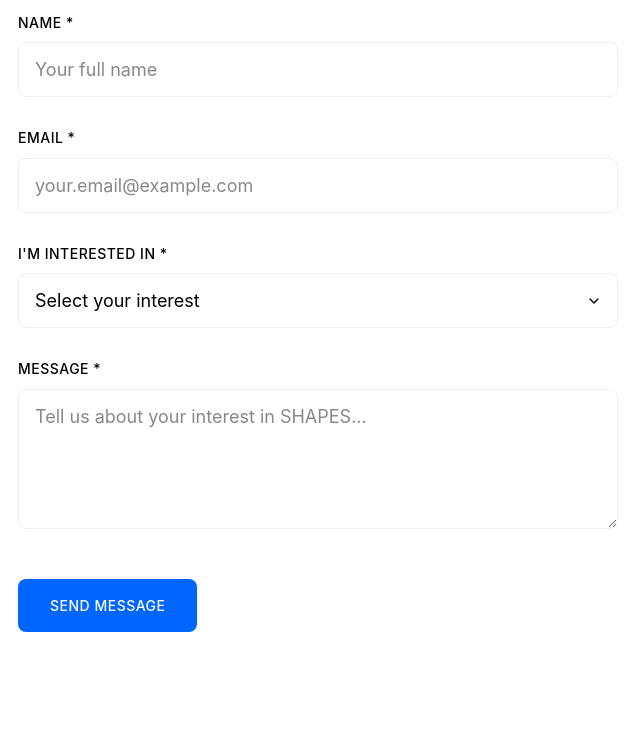
Test: ContactForm › shows success message after successful form submission
Note: Fill out the form with valid data
Step 1. Type "John Doe" into the field labelled "Name *" → (318, 70), box [18, 42, 618, 97]
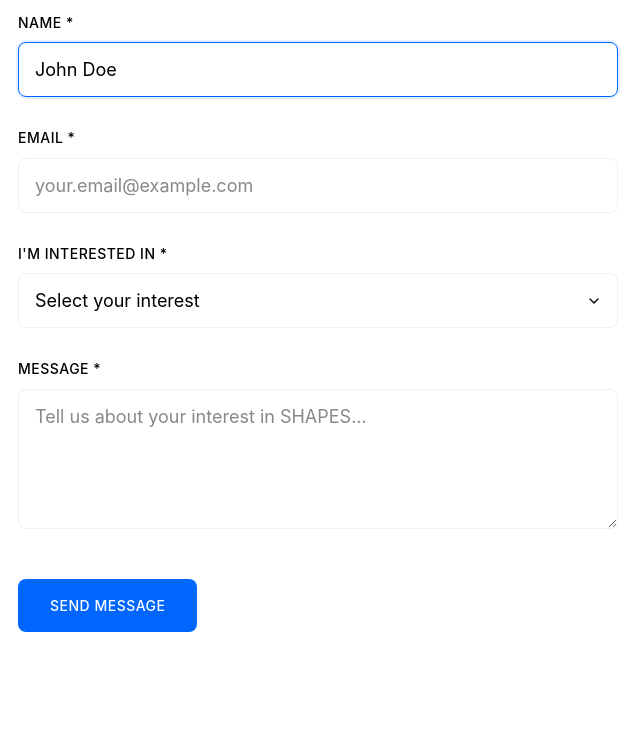
Step 2. Type "john@example.com" into the field labelled "Email *" → (318, 185), box [18, 158, 618, 213]
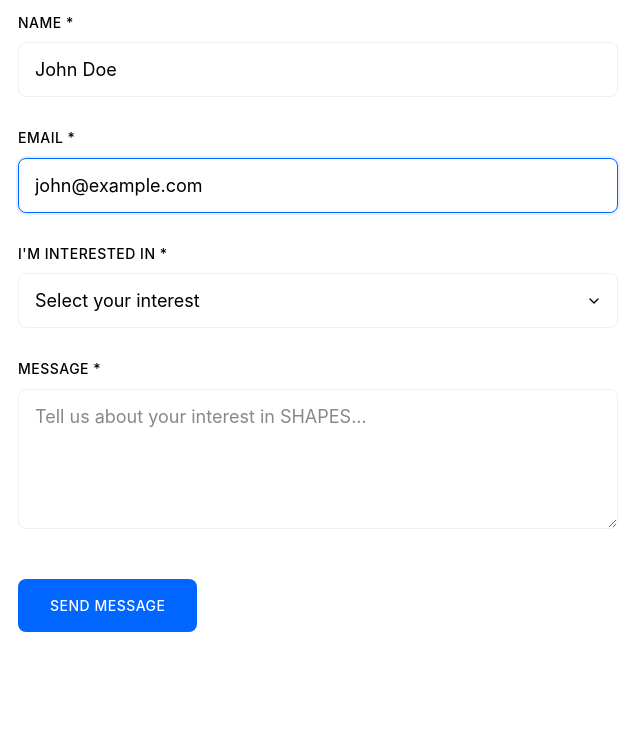
Step 3. Select "Joining a workshop" in the dropdown labelled "I'm interested in *" → (318, 301), box [18, 273, 618, 328]
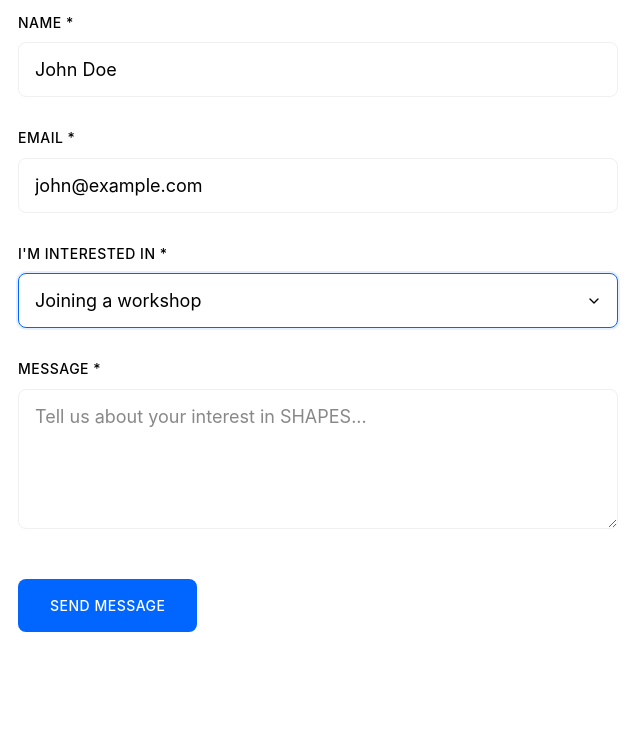
Step 4. Type "I am interested in joining a workshop." into the text box labelled "Message *" → (318, 459), box [18, 389, 618, 529]
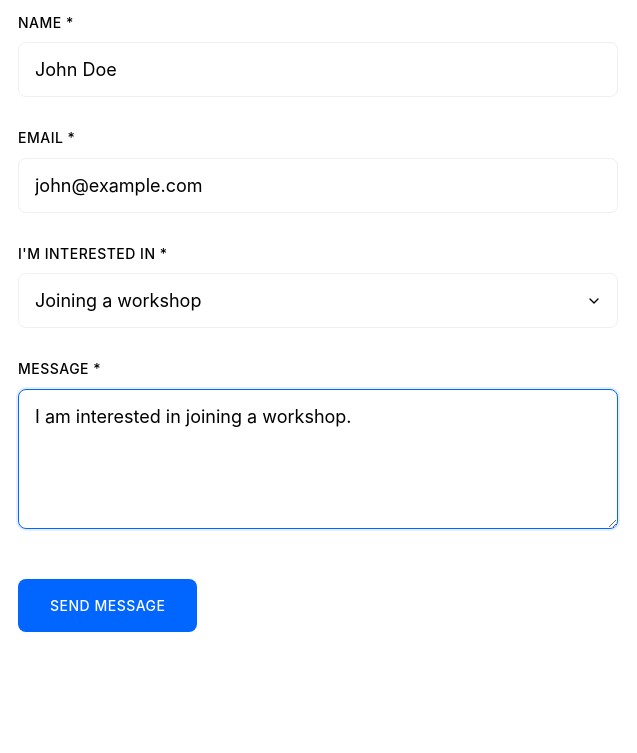
Step 5. Click the button "Send Message" → (108, 605), box [18, 579, 198, 632]
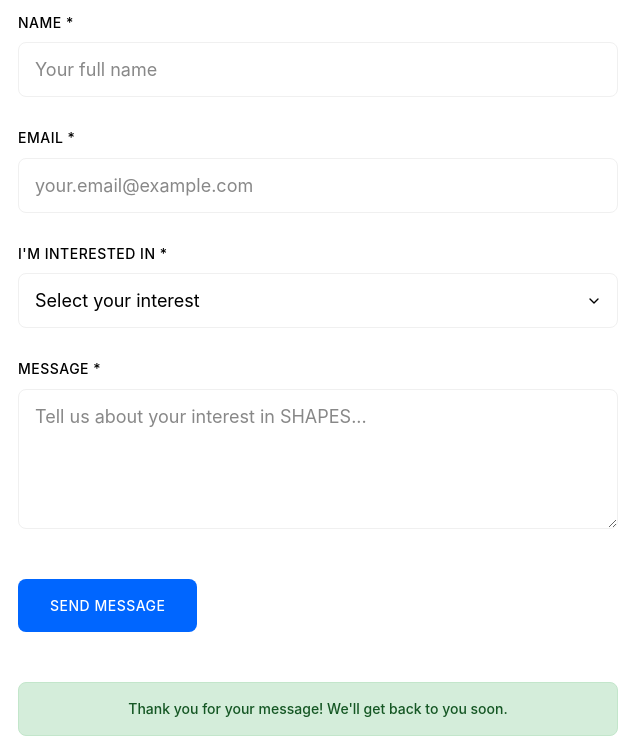
expect the text "Thank you for your message! We'll get back to you soon." is shown: met, box [18, 682, 618, 736]
expect the field labelled "Name *" is empty: met, box [18, 42, 618, 97]
expect the field labelled "Email *" is empty: met, box [18, 158, 618, 213]
